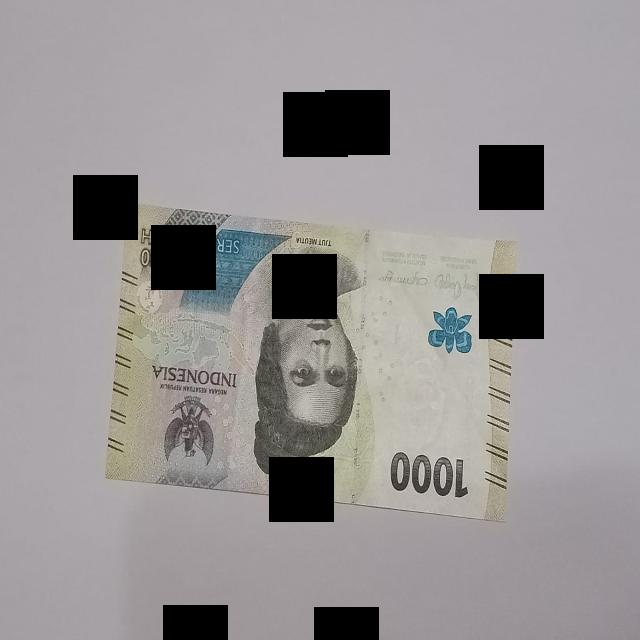seribu rupiah: (107, 205, 515, 522)
